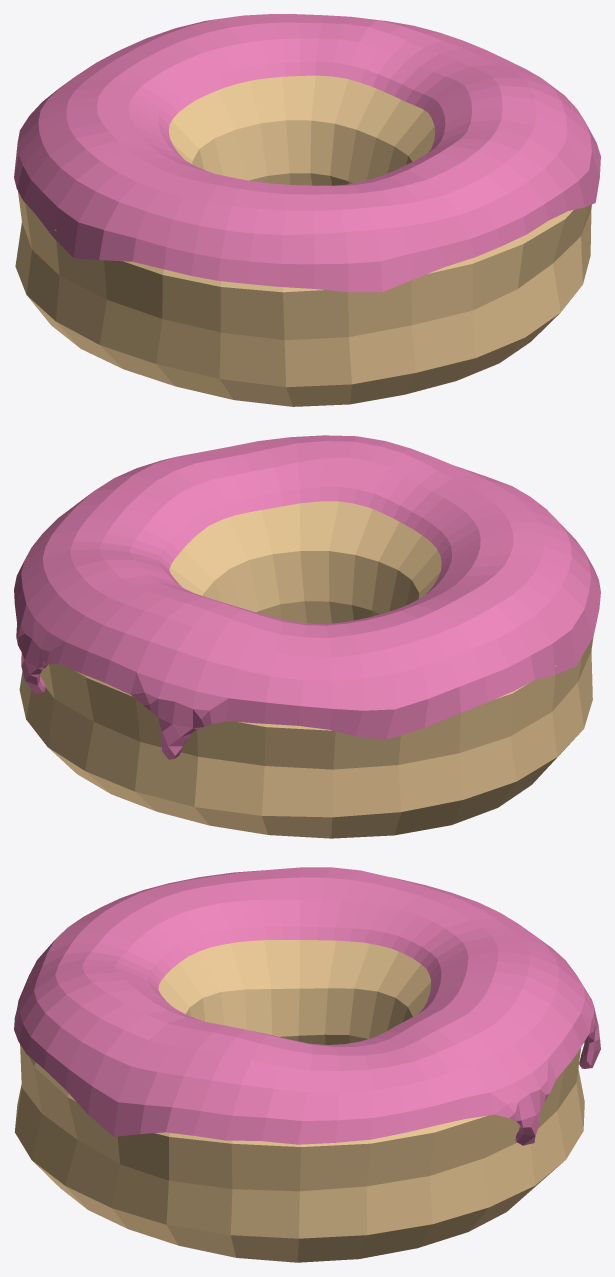
The model's file is donut.glb.
The picture shows the model from 3 angles, top to bottom: view 1: azimuth 30°, elevation 25°; view 2: azimuth 150°, elevation 25°; view 3: azimuth 270°, elevation 25°; orthographic projection.
Visible parts, largest first — view 1: donut; view 2: donut; view 3: donut.
Boxes of the visible parts, x1=… form: donut: x1=14, y1=14, x2=600, y2=406; donut: x1=14, y1=435, x2=600, y2=838; donut: x1=14, y1=867, x2=600, y2=1262.
Bounding box in the file's own units: 2.16 × 0.8656 × 2.17.
